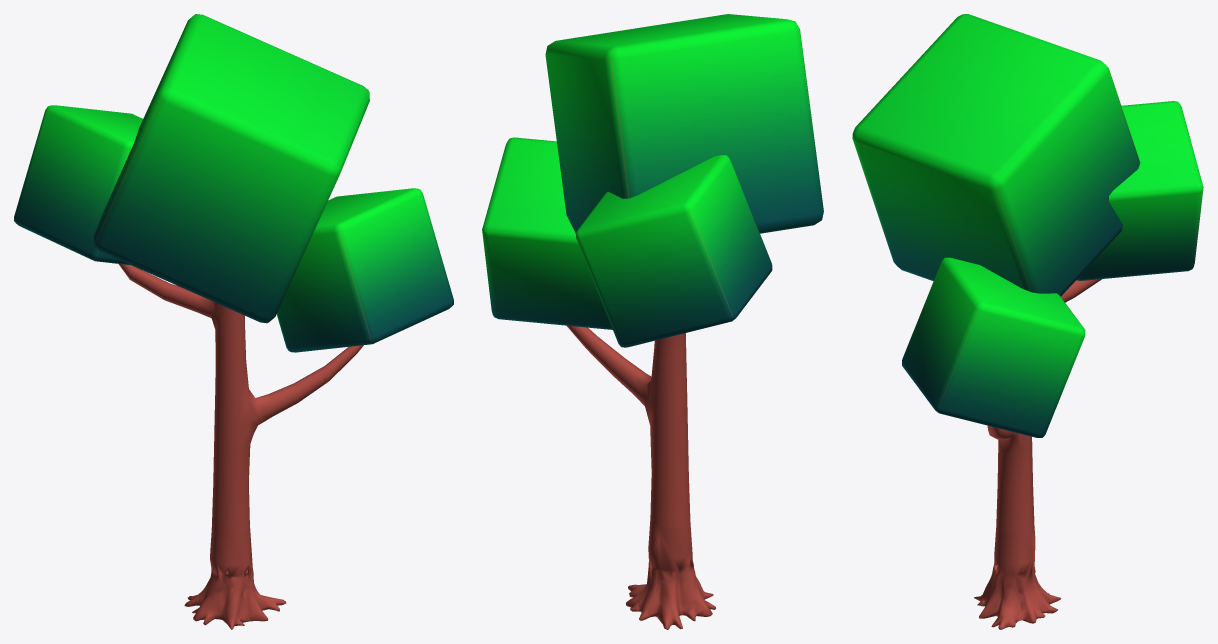
File: TreeSaglam.fbx
The picture shows the model from 3 angles, left to right: view 1: azimuth 30°, elevation 25°; view 2: azimuth 150°, elevation 25°; view 3: azimuth 270°, elevation 25°; orthographic projection. The views are drawn at different scales.
Visible parts, largest first — view 1: Tree2_1.003; view 2: Tree2_1.003; view 3: Tree2_1.003.
Boxes of the visible parts, x1,y1,x2,y2 form: Tree2_1.003: (14, 14, 453, 629); Tree2_1.003: (482, 14, 823, 629); Tree2_1.003: (852, 14, 1203, 629).
Bounding box in the file's own units: 2.68 × 4.44 × 2.55.
